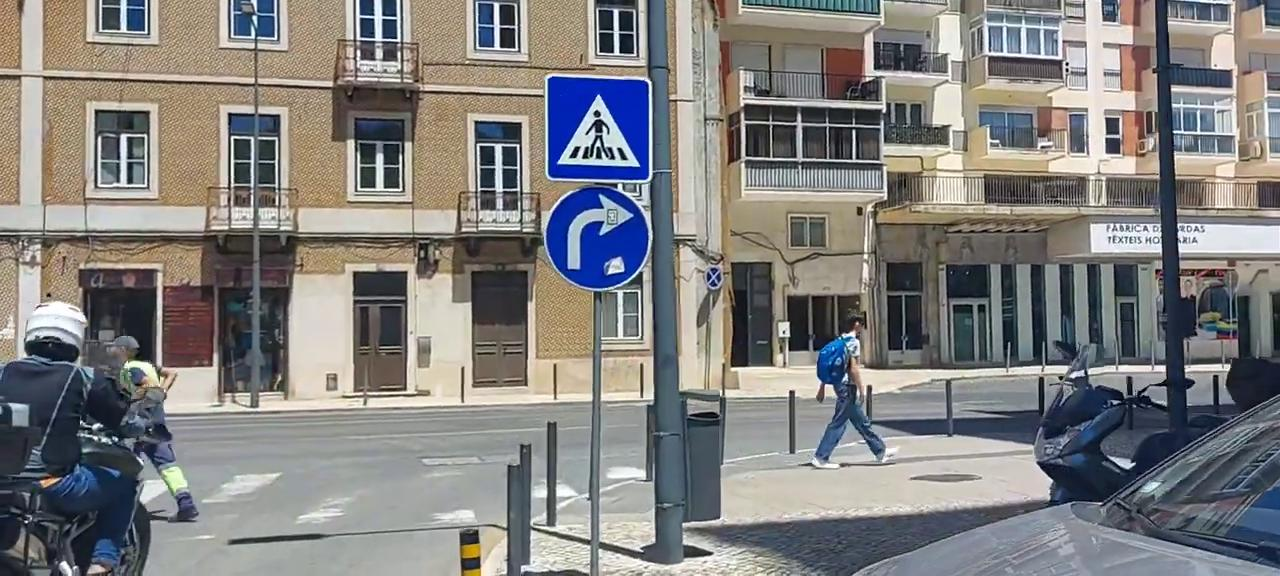passagem para peoes: (541, 72, 654, 185)
sentido obrigatorio: (542, 187, 652, 295)
